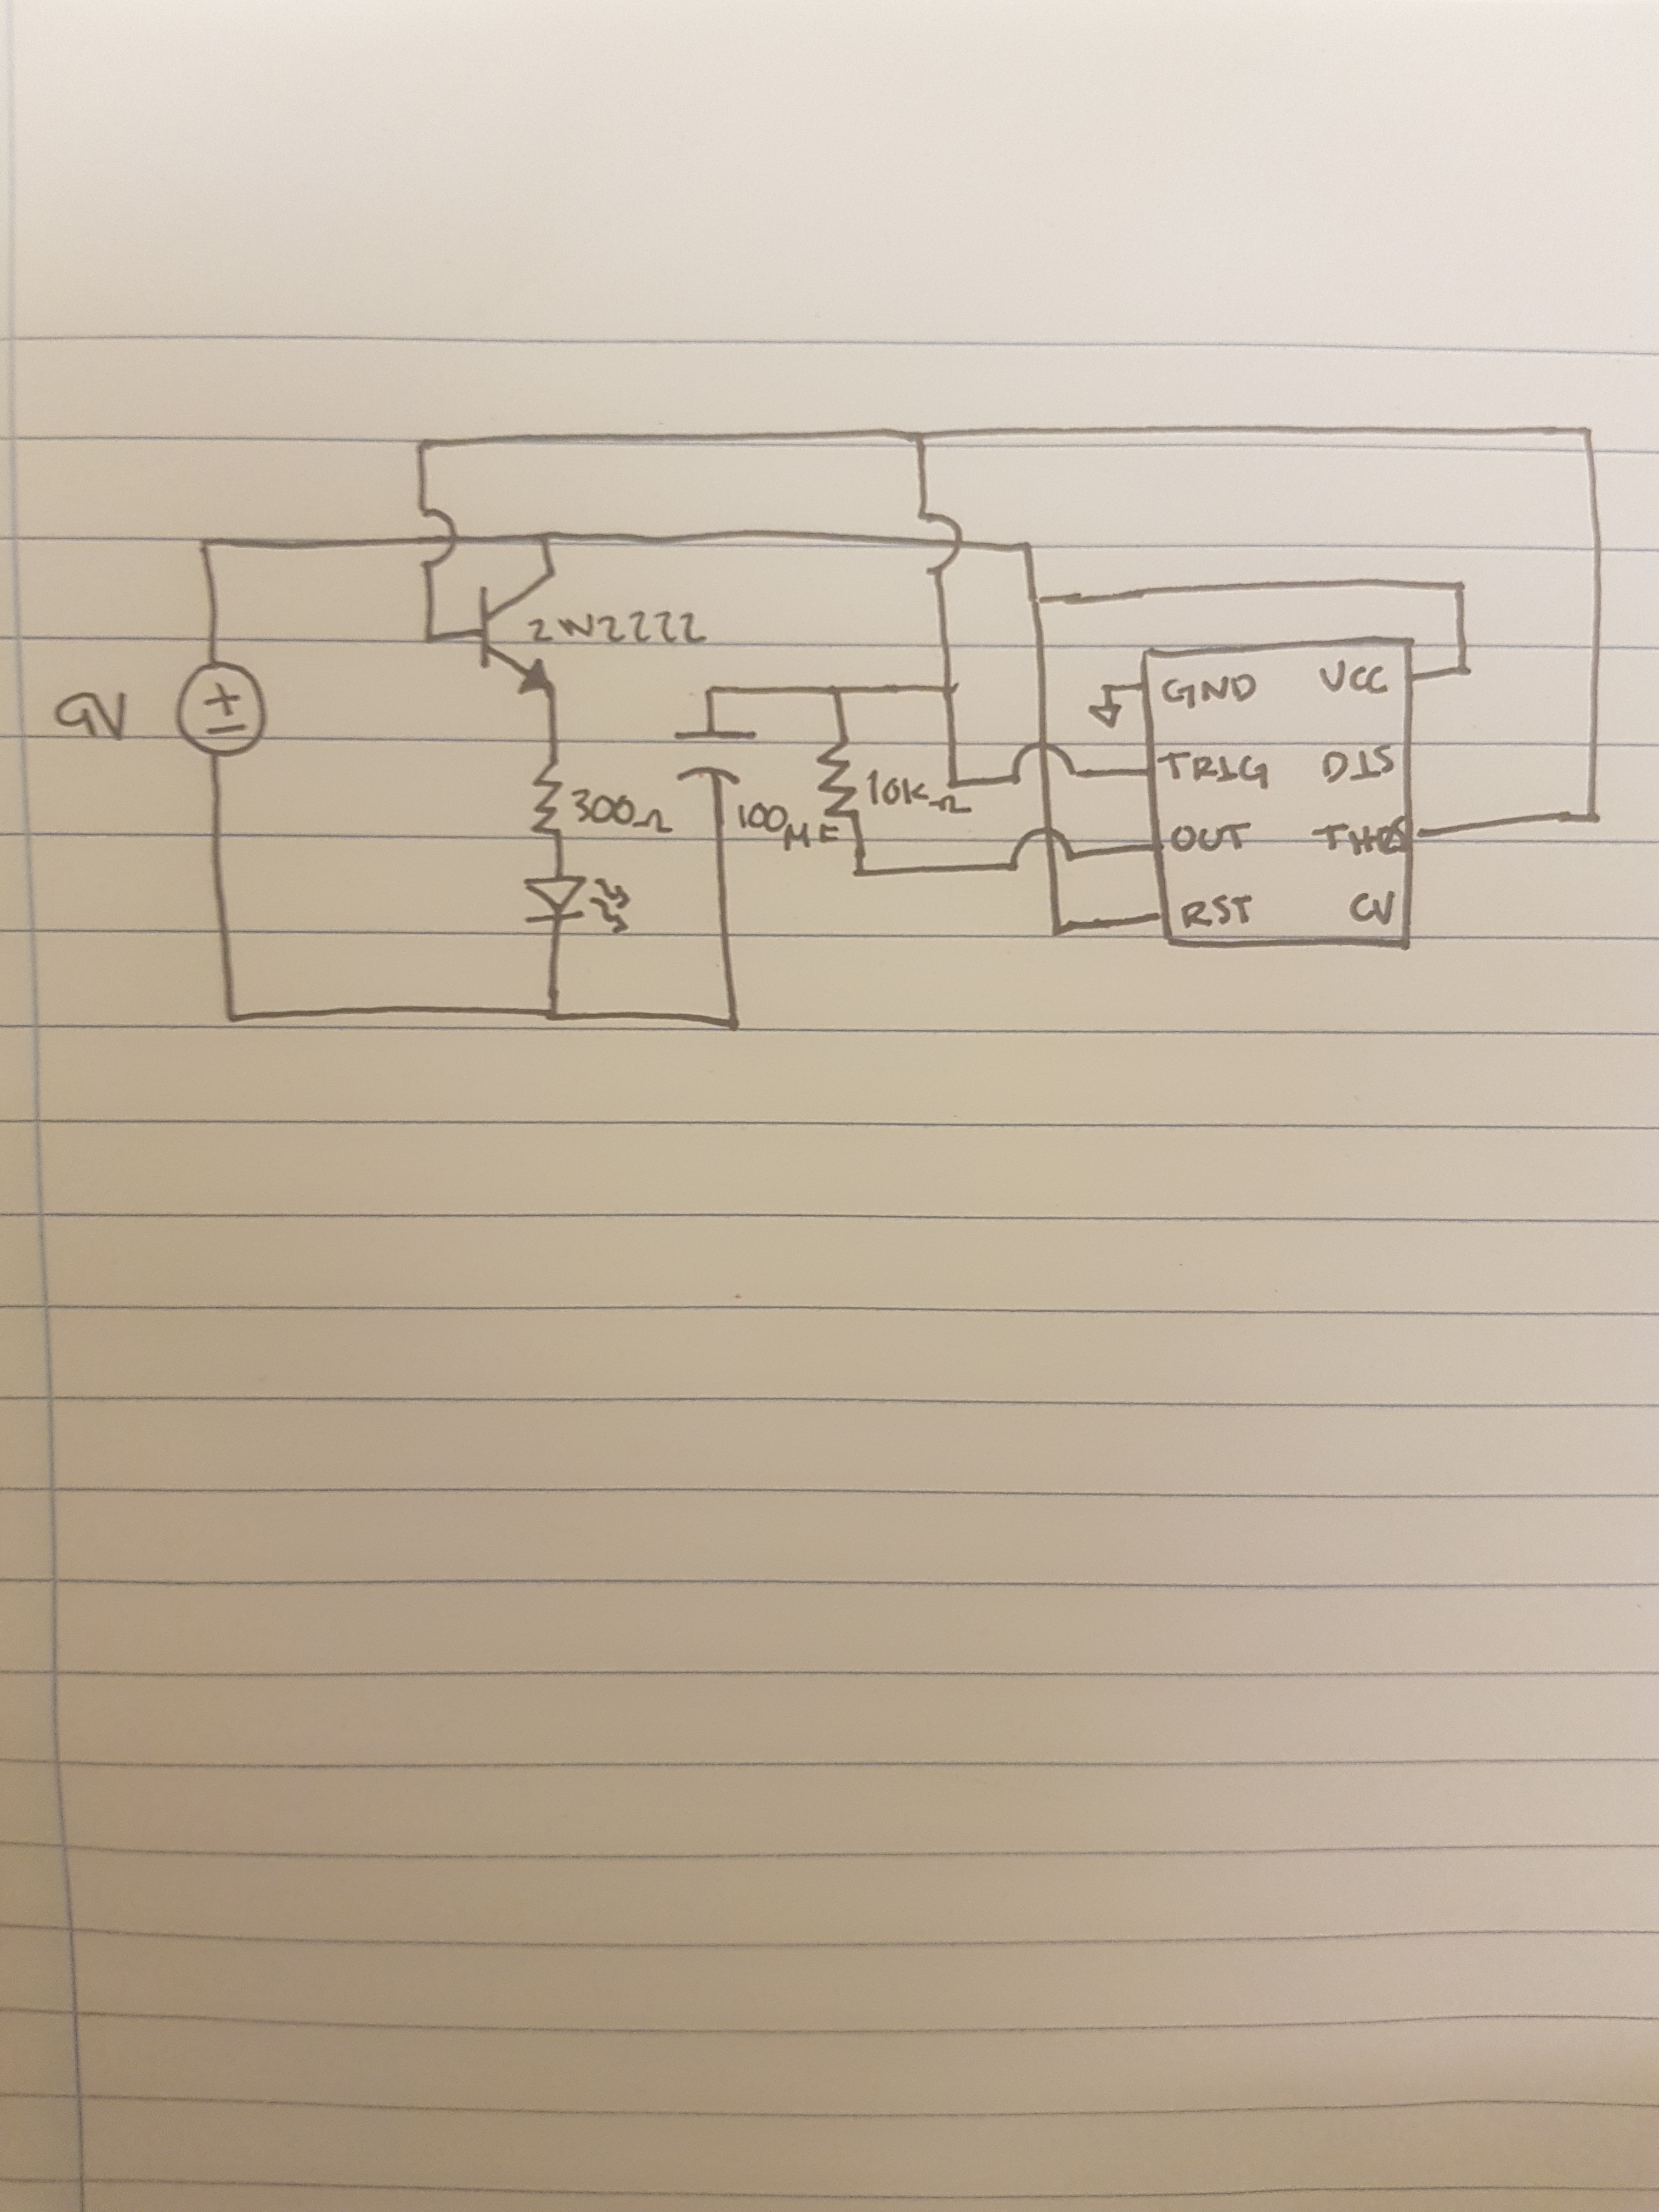capacitor.unpolarized: (666, 726, 762, 789)
crossover: (1004, 824, 1079, 881), (910, 509, 965, 578), (413, 503, 460, 573), (1009, 740, 1080, 786)
diode.light_emitting: (518, 873, 633, 939)
gnd: (1084, 702, 1124, 733)
integrated_cricuit.ne555: (1140, 629, 1427, 951)
junction: (723, 1010, 748, 1036), (910, 425, 931, 449), (220, 1008, 242, 1029), (1046, 920, 1065, 941), (197, 535, 218, 554), (939, 679, 958, 698), (415, 437, 434, 456), (1450, 578, 1471, 596), (1584, 810, 1605, 827), (850, 864, 870, 881), (824, 681, 843, 698), (1577, 421, 1596, 439), (1457, 662, 1474, 679), (420, 629, 437, 646), (537, 531, 556, 547), (1098, 681, 1117, 697), (945, 775, 962, 791), (1026, 592, 1044, 608), (1019, 540, 1035, 556), (545, 1008, 559, 1024), (704, 685, 718, 698)
resistor: (814, 737, 863, 822), (528, 756, 568, 840)
text: (525, 610, 711, 651), (568, 784, 676, 838), (45, 681, 131, 749), (734, 798, 838, 848), (1154, 747, 1274, 787), (1314, 813, 1408, 860), (1154, 671, 1262, 707), (1317, 742, 1401, 786), (1164, 819, 1256, 855), (1178, 892, 1256, 932), (1316, 657, 1391, 697), (863, 765, 931, 808), (1344, 887, 1396, 930)
transistor: (472, 566, 568, 709)
voltage.dc: (171, 657, 274, 763)
